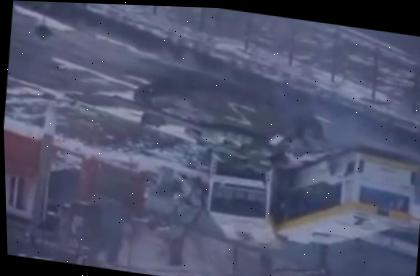tank: (105, 64, 332, 179)
